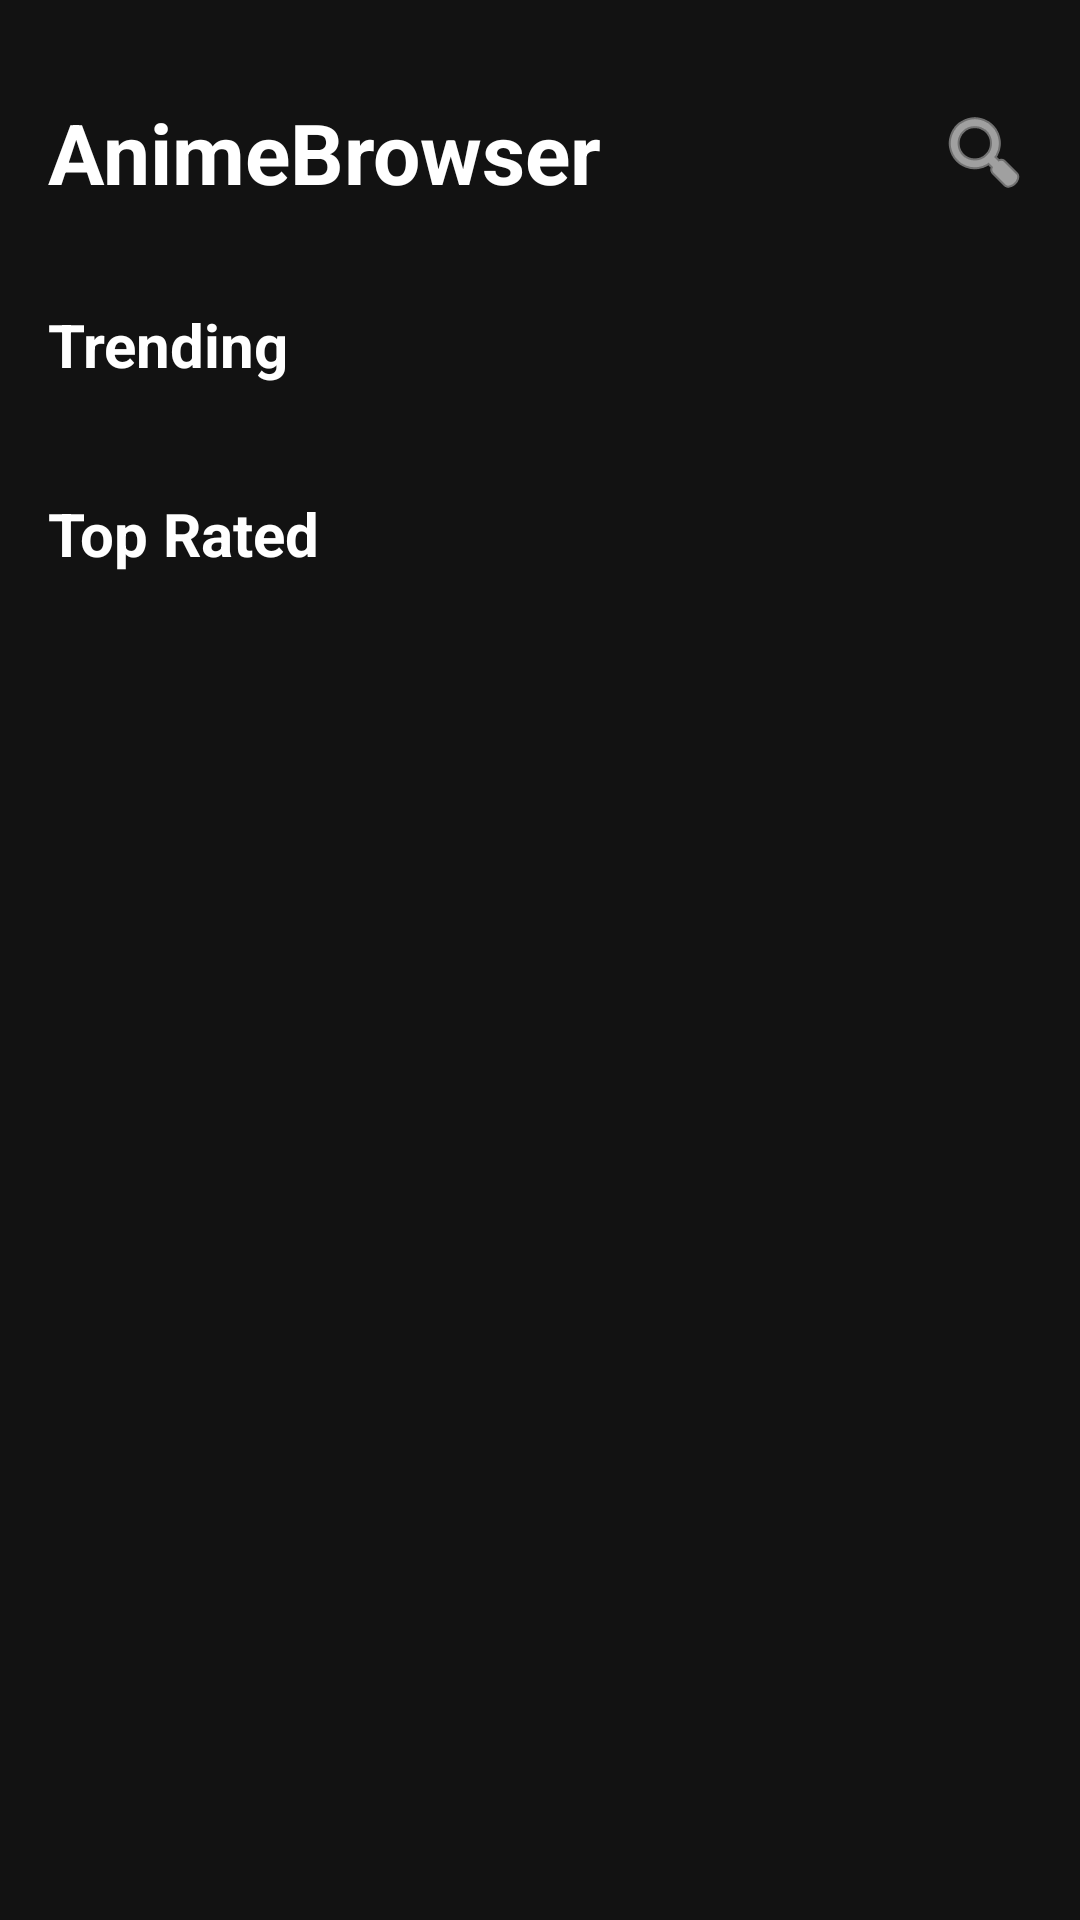

Icon bounding boxes for this 1080 x 1920 phone screenshot, format (x1=x1, y1=y1, x2=x2, y2=y2):
Search: (x1=948, y1=117, x2=1020, y2=188)
